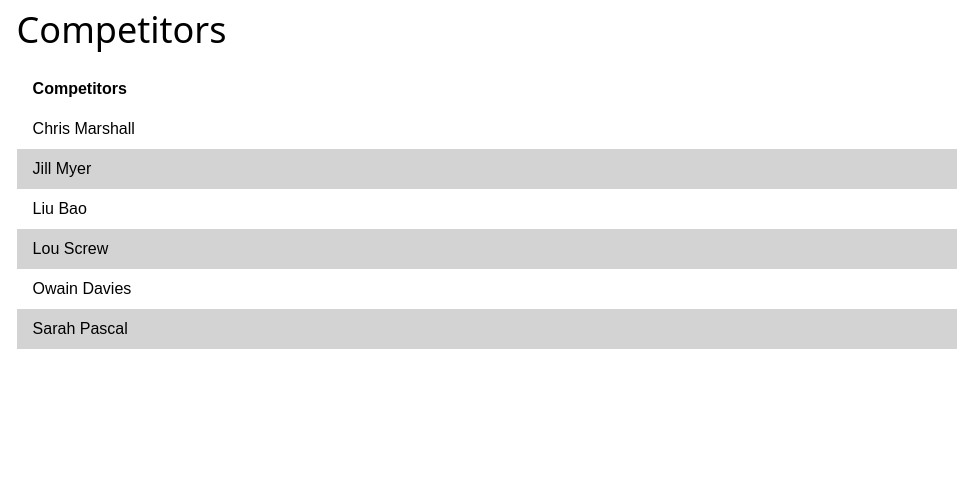
Test case: when a competitor is selected › clears any error message
The width and height of the screenshot is (974, 483).
Click the cell "Chris Marshall": {"x": 84, "y": 129} x1=17 y1=109 x2=957 y2=149
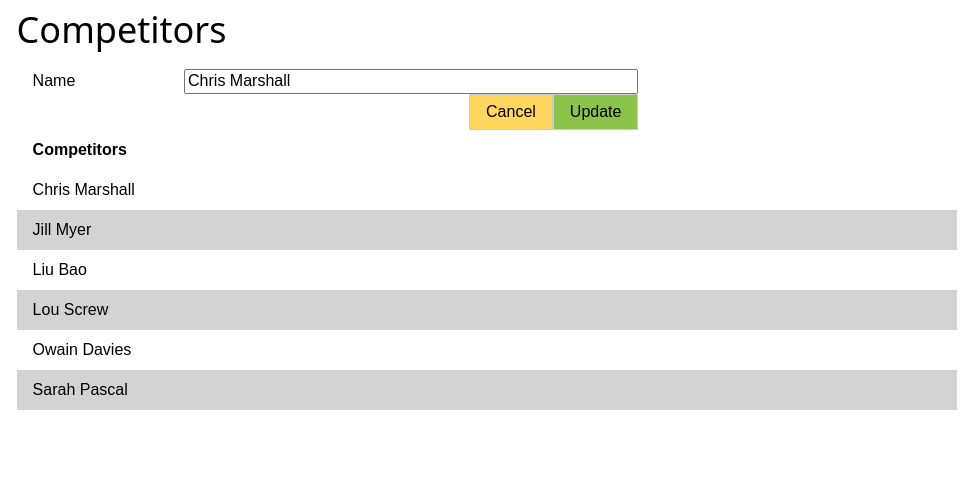
Replace the text in the field labelled "Name" with "John Smith": {"x": 411, "y": 82} x1=184 y1=69 x2=638 y2=94
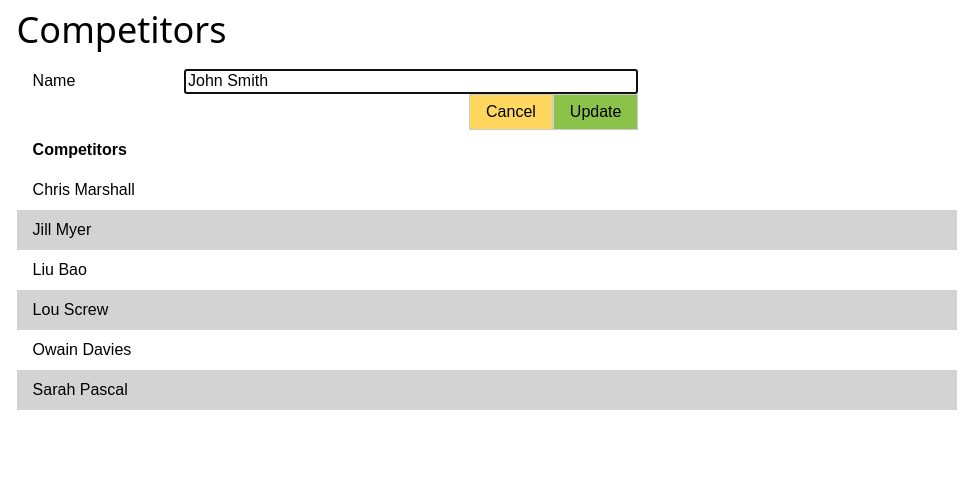
Click the button "Update": {"x": 596, "y": 112} x1=553 y1=94 x2=638 y2=130
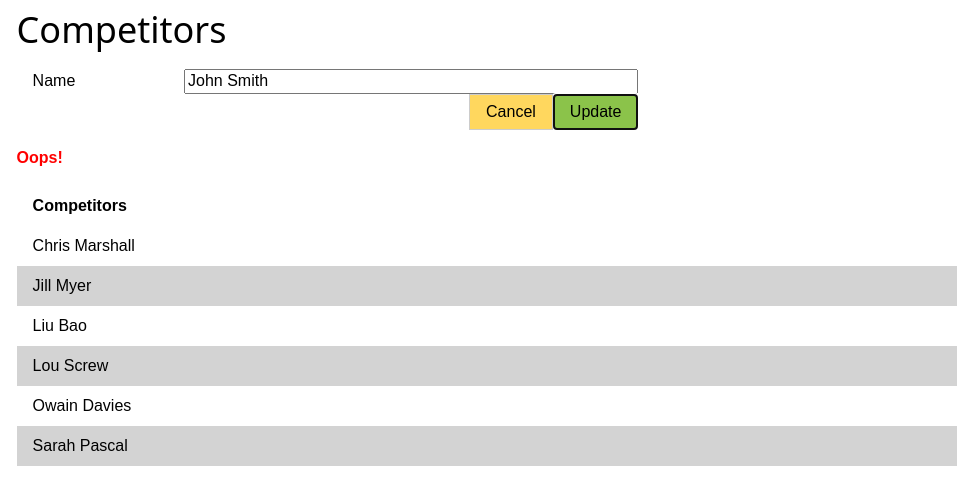
Expected: the text "Oops!" is shown, x1=17 y1=149 x2=63 y2=166
Click the cell "Chris Marshall": {"x": 84, "y": 246} x1=17 y1=226 x2=957 y2=266
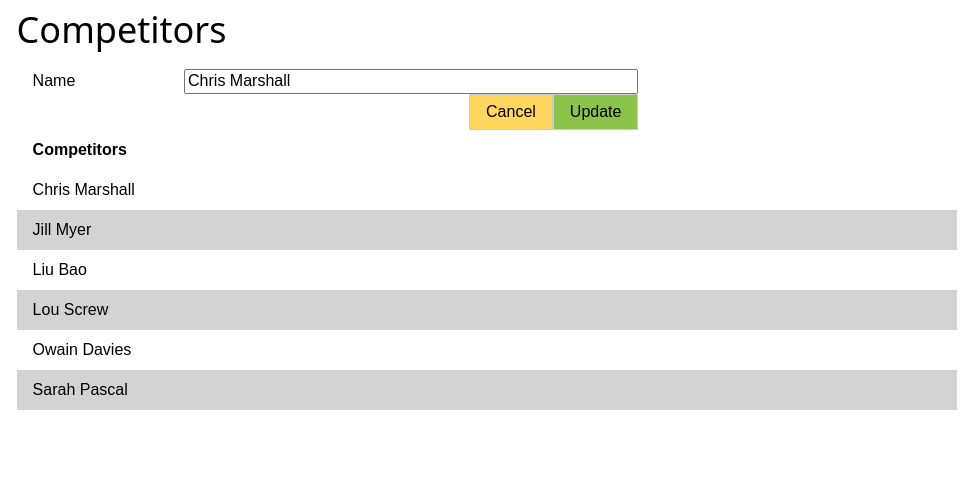
Expected: the text "Oops" is gone
